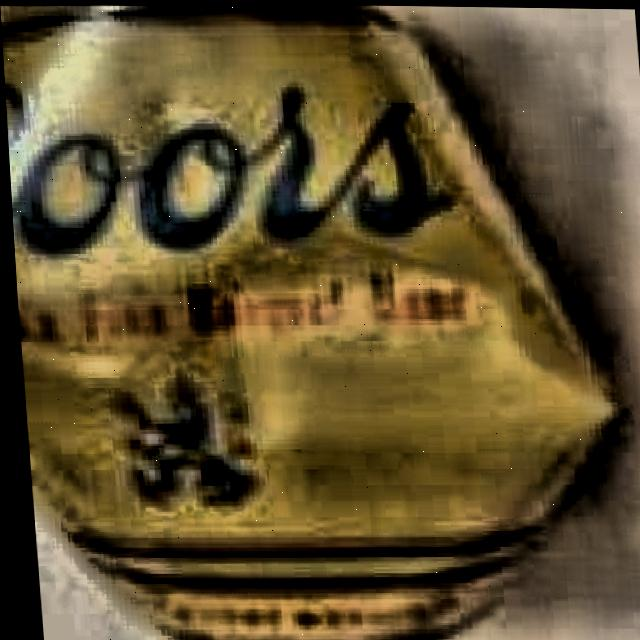metal: (0, 4, 628, 640)
